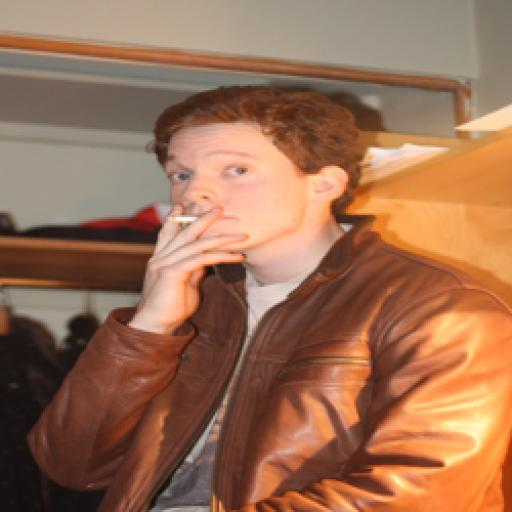terdeteksi merokok: (140, 131, 238, 271)
